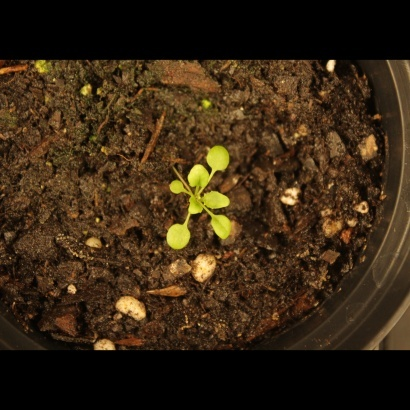leaf: (183, 159, 216, 193), (206, 209, 236, 243), (206, 141, 236, 173), (164, 221, 194, 253), (202, 188, 237, 214), (161, 173, 190, 198), (181, 196, 204, 219)
